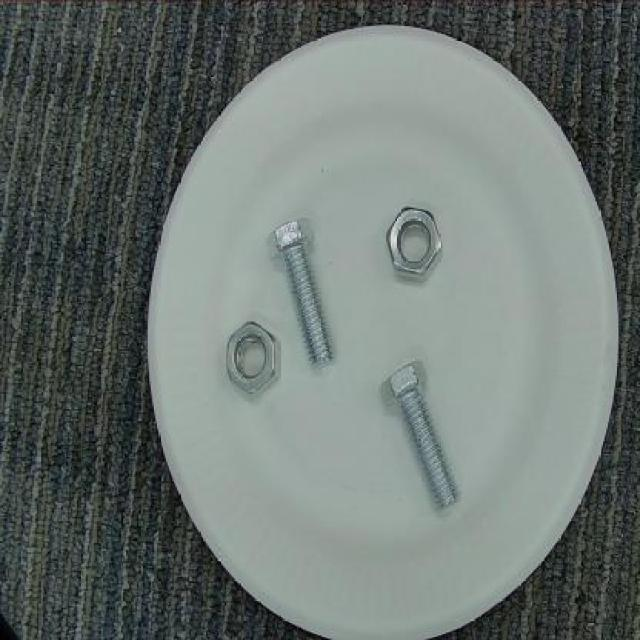Bolt: (377, 362, 462, 512), (268, 215, 341, 371)
Nut: (385, 203, 443, 282), (224, 317, 280, 397)
